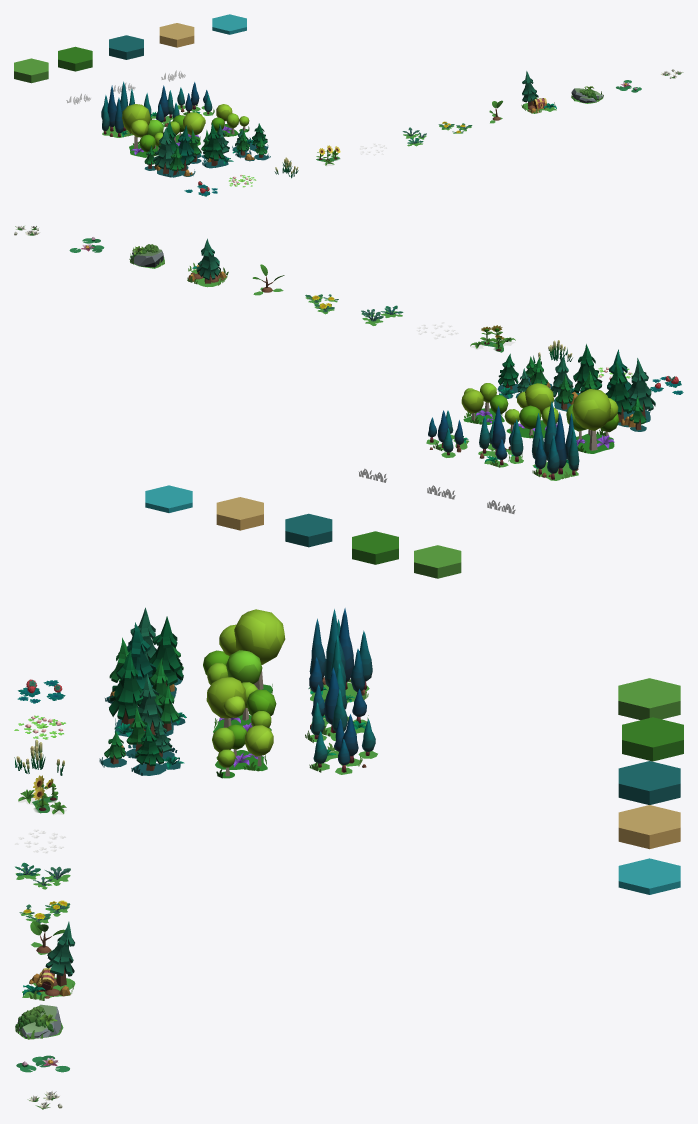
Rendered from tiles.fbx.
3 renders of one model, top to bottom at view 1: azimuth 30°, elevation 25°; view 2: azimuth 150°, elevation 25°; view 3: azimuth 270°, elevation 25°, orthographic. The views are drawn at different scales.
Visible parts, largest first — view 1: forest_pine_01_B, park_tree_01_B, forest_pine_01_M, land_spruce_01_B, forest_pine_01_S, park_tree_01_S, hexagon_sand, hexagon_park, hexagon_meadow, hexagon_forest, park_tree_01_M, land_spruce_01_M (+5 smaller); view 2: land_spruce_01_B, park_tree_01_B, forest_pine_01_B, park_tree_01_M, land_spruce_01_M, forest_pine_01_M, park_tree_01_S, hexagon_meadow, hexagon_sand, hexagon_forest, hexagon_park, forest_pine_01_S (+5 smaller); view 3: park_tree_01_B, forest_pine_01_M, land_spruce_01_B, forest_pine_01_B, park_tree_01_M, forest_pine_01_S, park_tree_01_S, hexagon_forest, hexagon_sand, land_spruce_01_M, hexagon_park, hexagon_meadow (+5 smaller).
Boxes of the visible parts, x1=… form: forest_pine_01_B: x1=144, y1=120, x2=195, y2=177; park_tree_01_B: x1=122, y1=104, x2=163, y2=157; forest_pine_01_M: x1=189, y1=123, x2=233, y2=168; land_spruce_01_B: x1=101, y1=81, x2=134, y2=137; forest_pine_01_S: x1=232, y1=123, x2=270, y2=161; park_tree_01_S: x1=211, y1=104, x2=249, y2=136; hexagon_sand: x1=159, y1=23, x2=194, y2=47; hexagon_park: x1=58, y1=46, x2=92, y2=71; hexagon_meadow: x1=14, y1=58, x2=48, y2=83; hexagon_forest: x1=109, y1=35, x2=143, y2=59; park_tree_01_M: x1=170, y1=112, x2=205, y2=145; land_spruce_01_M: x1=144, y1=85, x2=179, y2=127; land_spruce_01_B: x1=532, y1=401, x2=579, y2=480; park_tree_01_B: x1=566, y1=389, x2=619, y2=453; forest_pine_01_B: x1=605, y1=349, x2=655, y2=431; park_tree_01_M: x1=504, y1=383, x2=558, y2=438; land_spruce_01_M: x1=478, y1=406, x2=523, y2=467; forest_pine_01_M: x1=550, y1=344, x2=602, y2=411; park_tree_01_S: x1=461, y1=383, x2=508, y2=424; hexagon_meadow: x1=414, y1=545, x2=461, y2=578; hexagon_sand: x1=216, y1=497, x2=263, y2=530; hexagon_forest: x1=285, y1=513, x2=332, y2=547; hexagon_park: x1=352, y1=531, x2=398, y2=564; forest_pine_01_S: x1=497, y1=353, x2=552, y2=398; park_tree_01_B: x1=203, y1=609, x2=285, y2=693; forest_pine_01_M: x1=109, y1=649, x2=186, y2=736; land_spruce_01_B: x1=308, y1=608, x2=372, y2=702; forest_pine_01_B: x1=105, y1=607, x2=183, y2=703; park_tree_01_M: x1=206, y1=677, x2=276, y2=732; forest_pine_01_S: x1=99, y1=707, x2=184, y2=775; park_tree_01_S: x1=212, y1=724, x2=273, y2=778; hexagon_forest: x1=618, y1=761, x2=680, y2=804; hexagon_sand: x1=618, y1=805, x2=680, y2=849; land_spruce_01_M: x1=305, y1=663, x2=368, y2=742; hexagon_park: x1=622, y1=717, x2=683, y2=761; hexagon_meadow: x1=618, y1=678, x2=680, y2=720.
Bounding box in the file's own units: 2799 × 306 × 1813.
